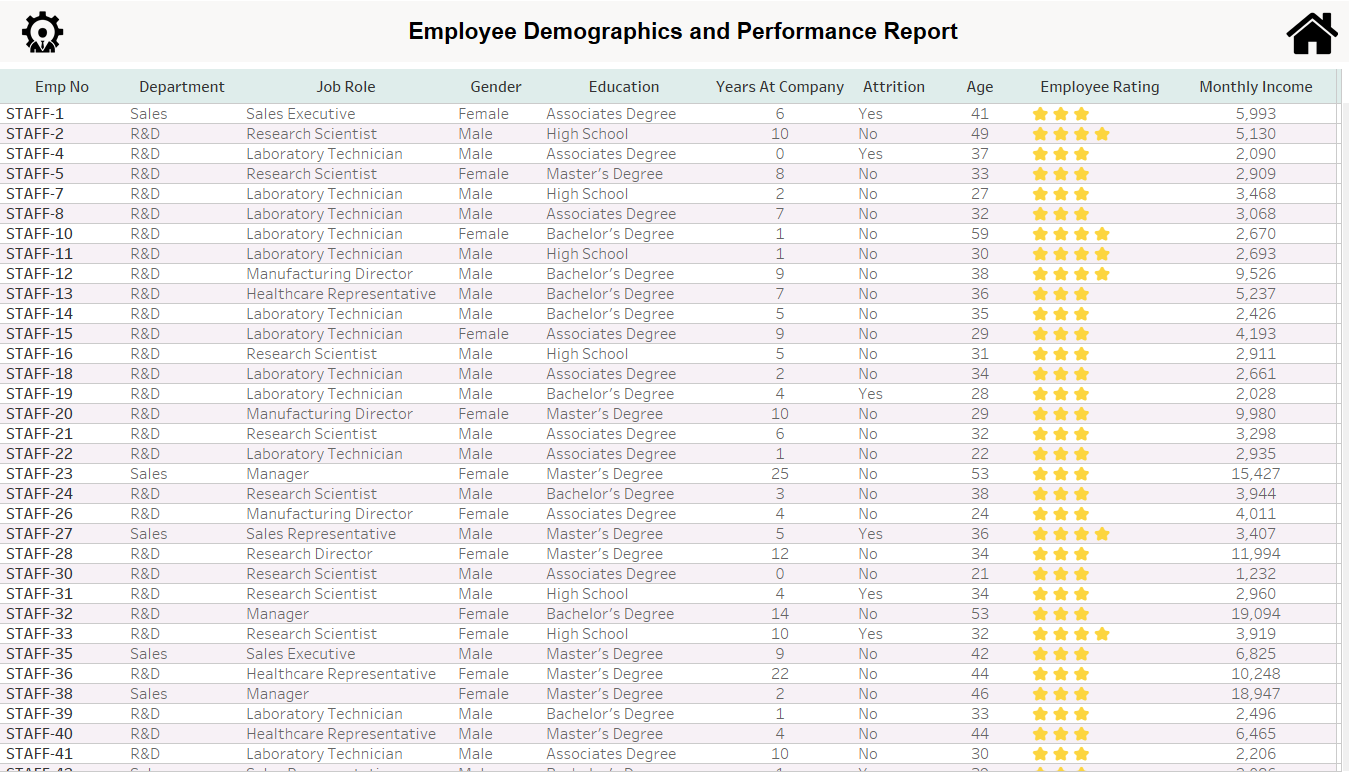

This screenshot's page, from the dashboard's own definition file:
{"tool":"tableau","page":{"name":"Report List","canvas":[1366,768],"ordinal":1},"visuals":[{"type":"text","box":[0,0,1366,61]},{"type":"dashboard-object","box":[1283,6,59,52]},{"type":"image","param":"Image/management.png","box":[13,8,58,46]},{"type":"worksheet","title":"List Report","mark":"Text","rows":["emp no","Department","Job Role","Gender","Education","Years At Company","Attrition","Age","Calculation_1918533469537361944","Monthly Income"],"box":[0,68,1366,703]}]}

Visuals, with their boxes in screenshot pixels (x1, y1, x2, y2), scaled from the page's 1366x768 canvas onto the 1349x777 screenshot:
text: {"x1": 0, "y1": 0, "x2": 1348, "y2": 62}
dashboard-object: {"x1": 1267, "y1": 6, "x2": 1325, "y2": 59}
image: {"x1": 13, "y1": 8, "x2": 70, "y2": 55}
"List Report" worksheet (Text marks): {"x1": 0, "y1": 69, "x2": 1348, "y2": 776}
